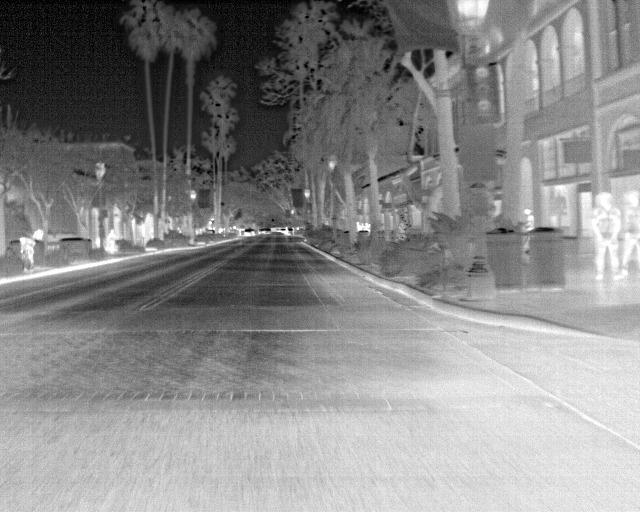bicycle: (241, 226, 256, 238)
empty: (590, 190, 624, 281), (621, 186, 639, 276), (521, 207, 537, 235)
